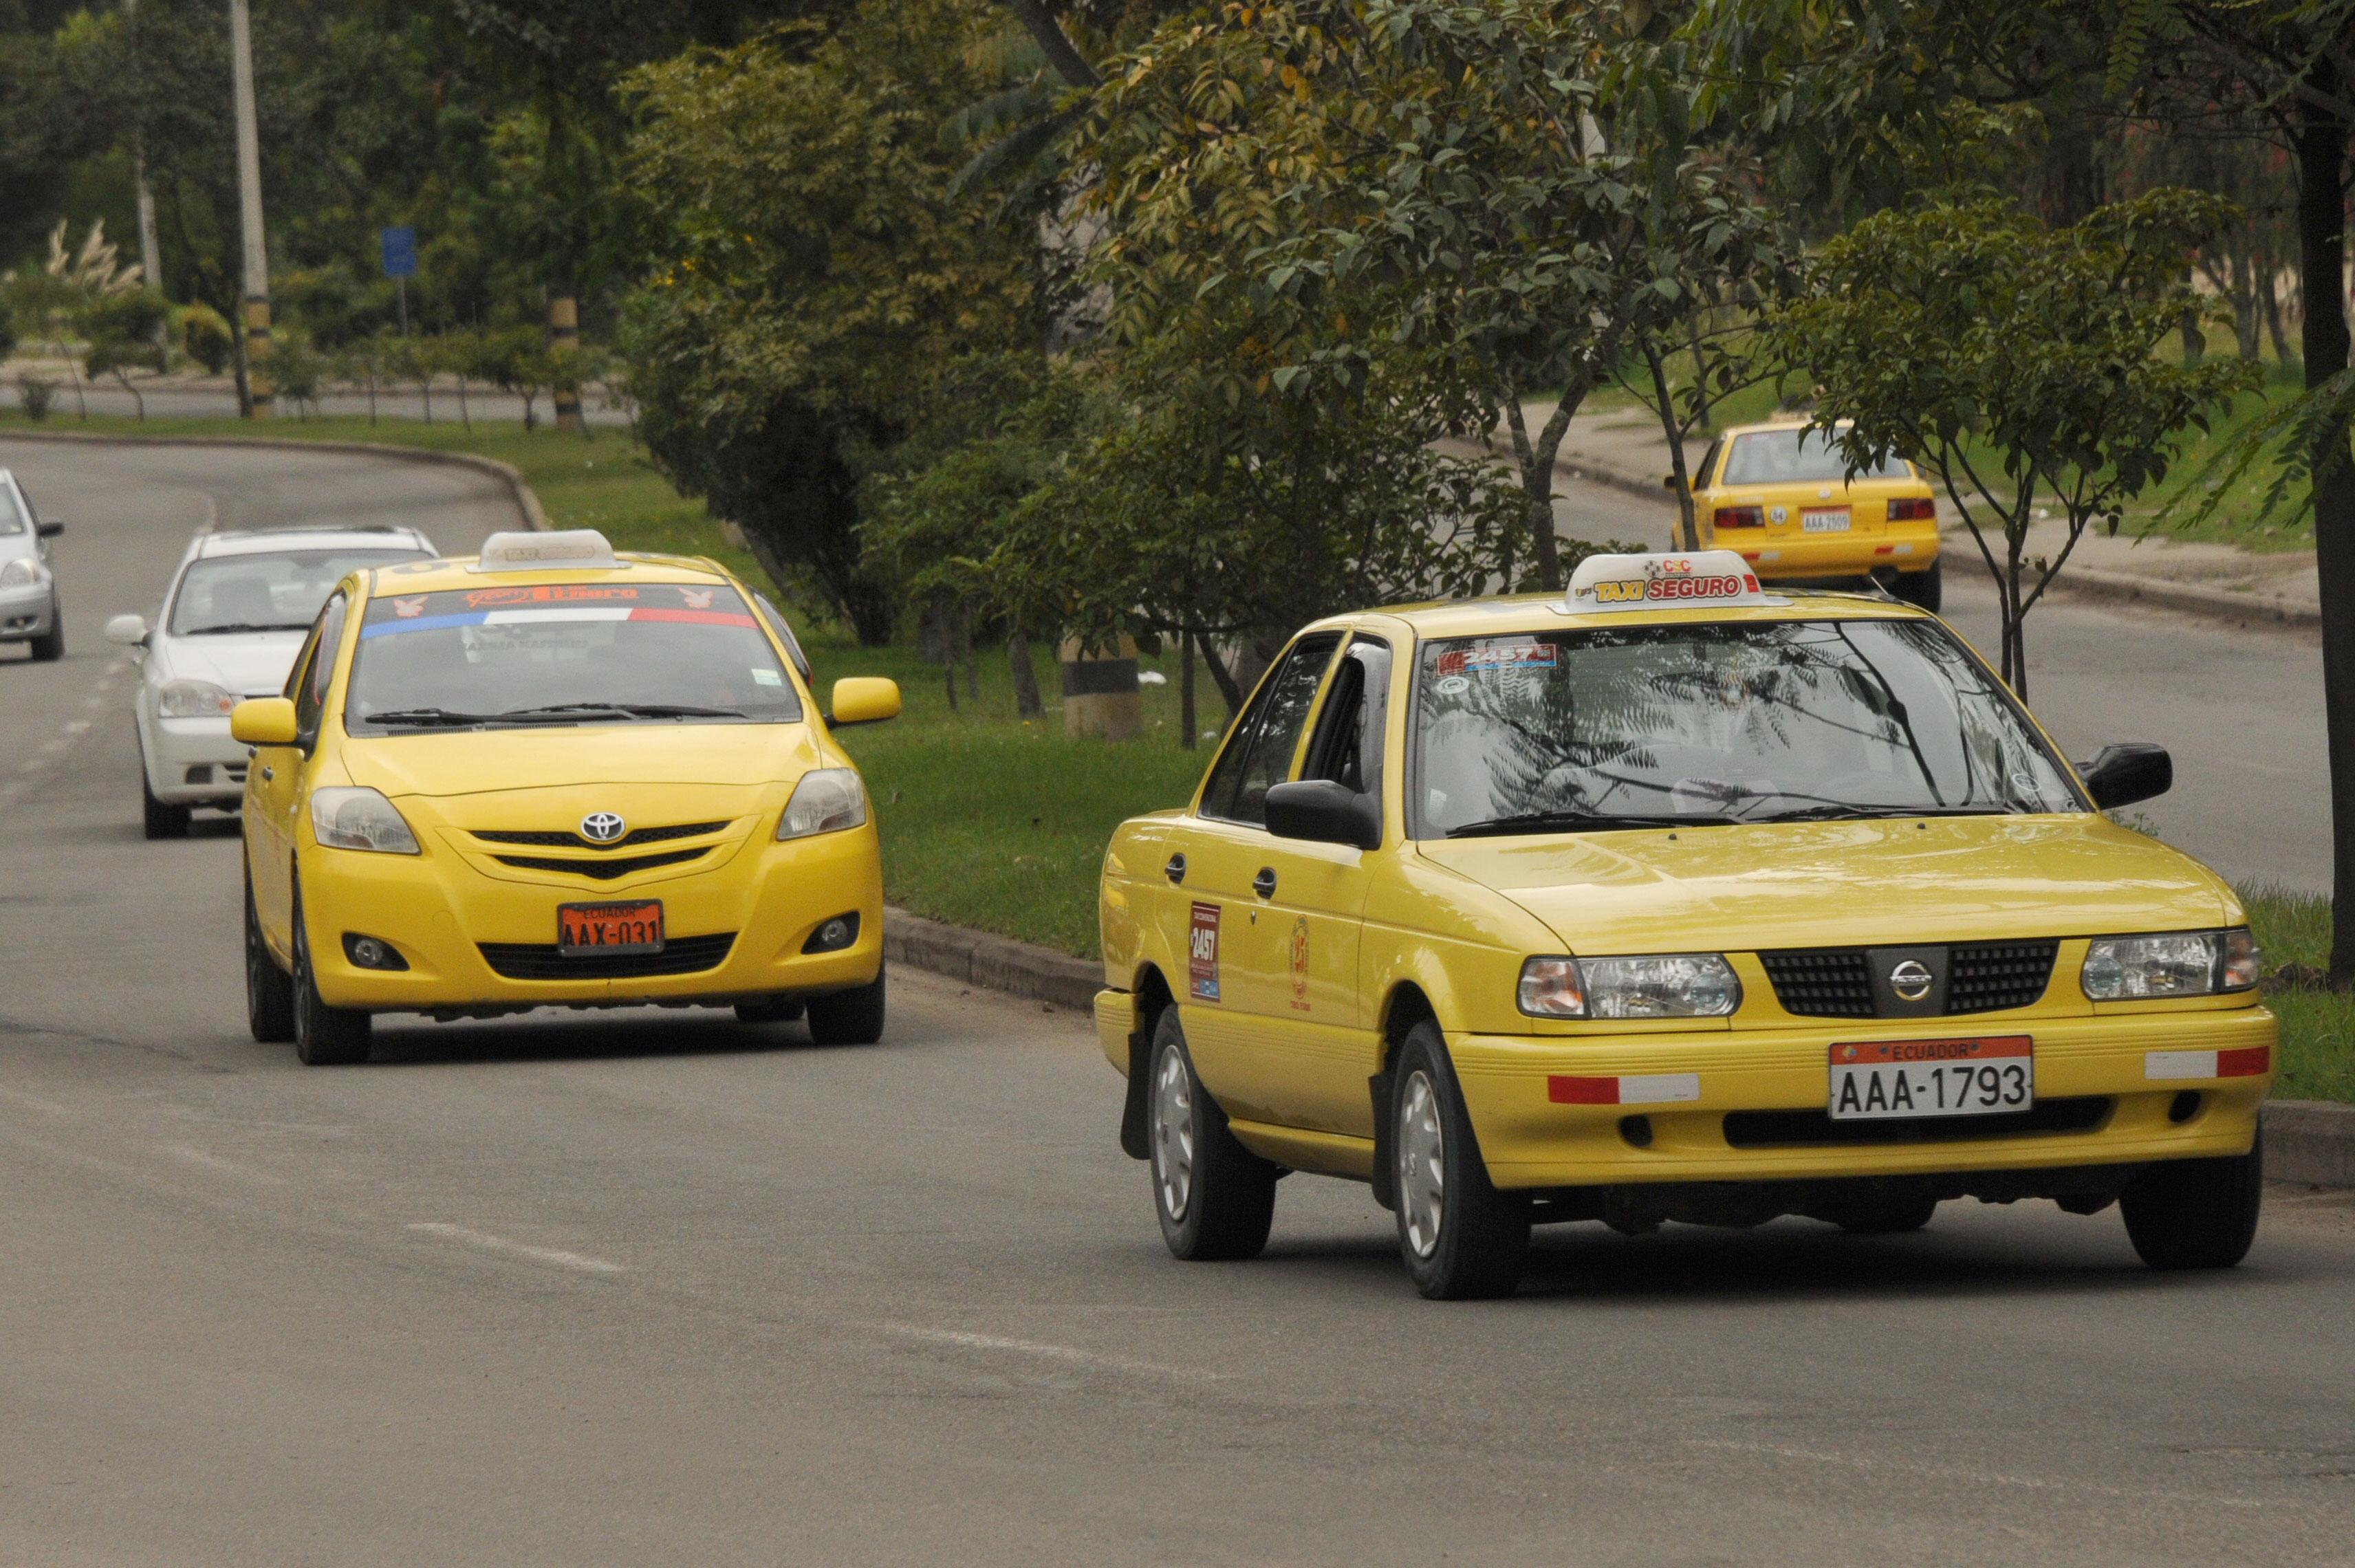taxi: (1046, 488, 2283, 1388)
